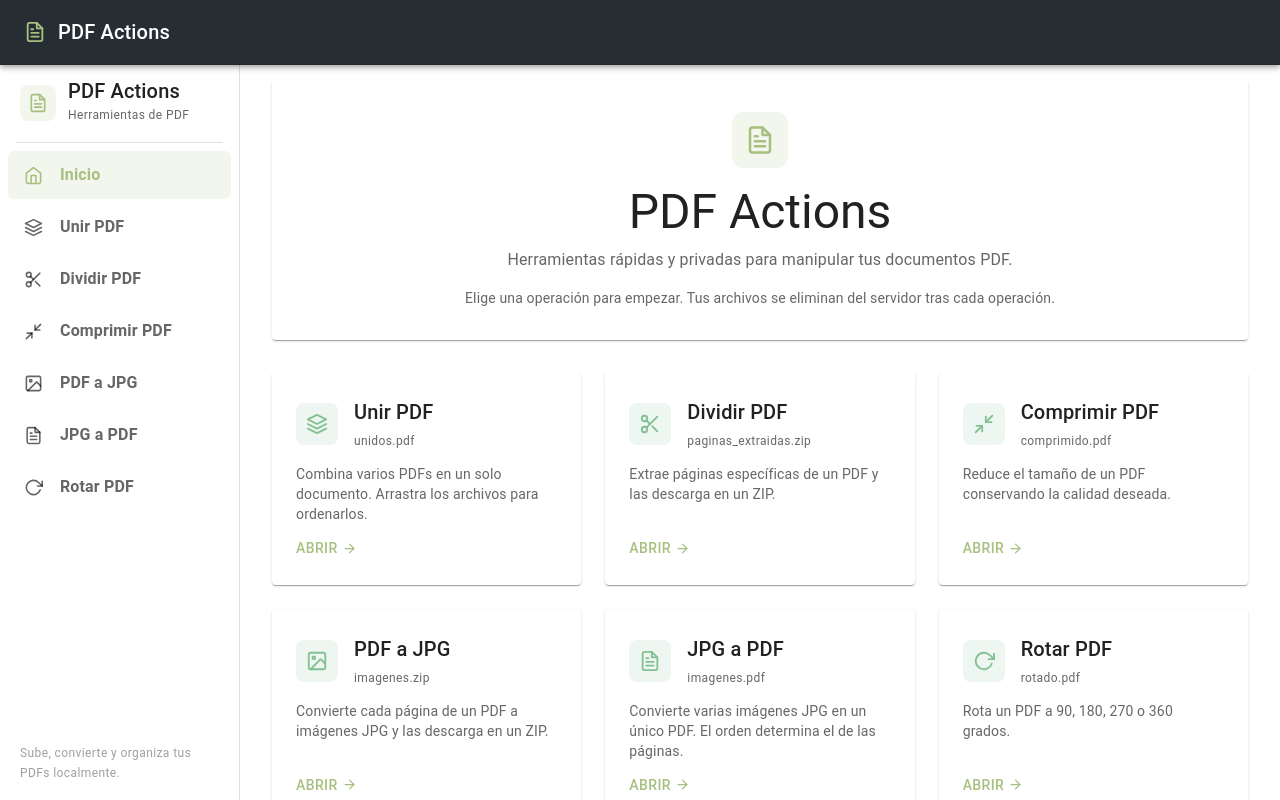
it: App / navegación › navega a cada página de operación desde el menú lateral
Click the link "Unir PDF" at point(74, 227), box [24,217,124,236]
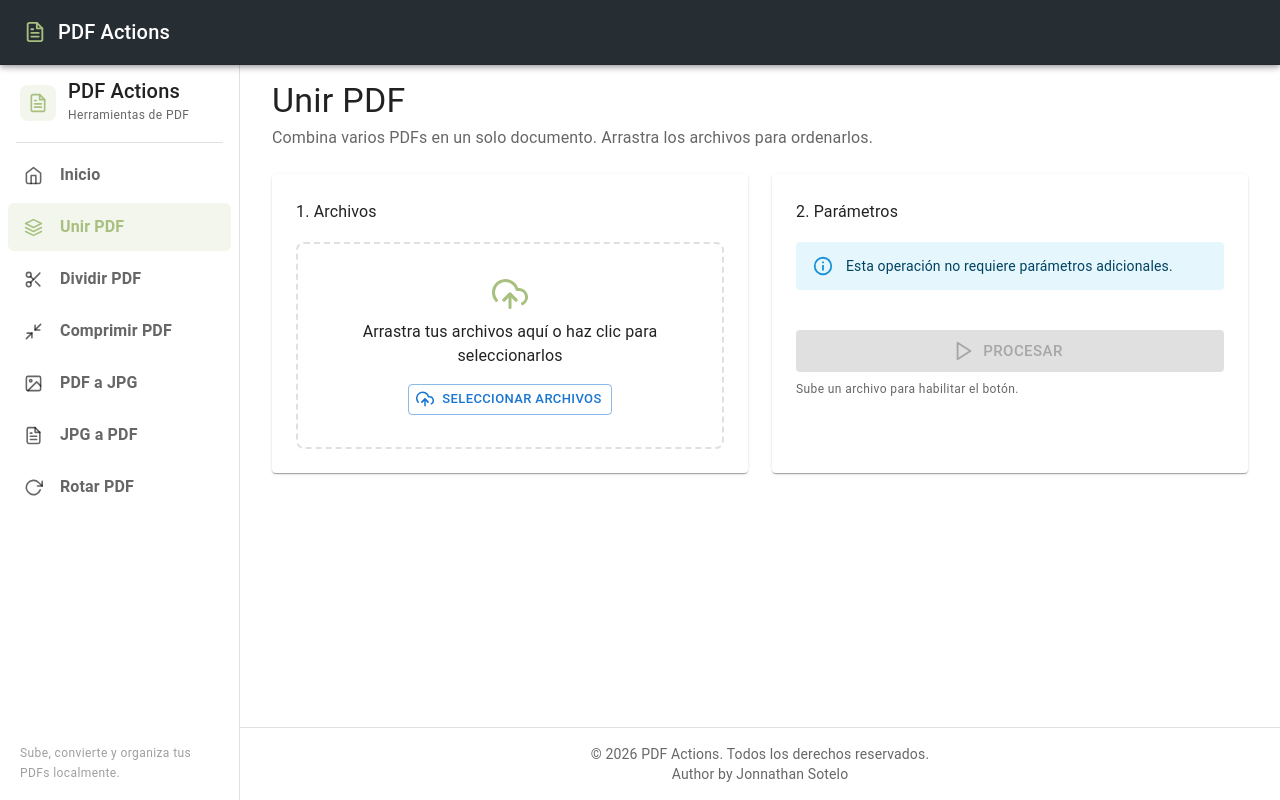
Expected: the text "Combina varios PDFs en un solo documento. Arrastra los archivos para ordenarlos." is shown, [272,128,873,147]
Result: the heading "Unir PDF" is shown at [272,80,406,120]
Click the link "Dividir PDF" at point(83, 279), box [24,269,141,288]
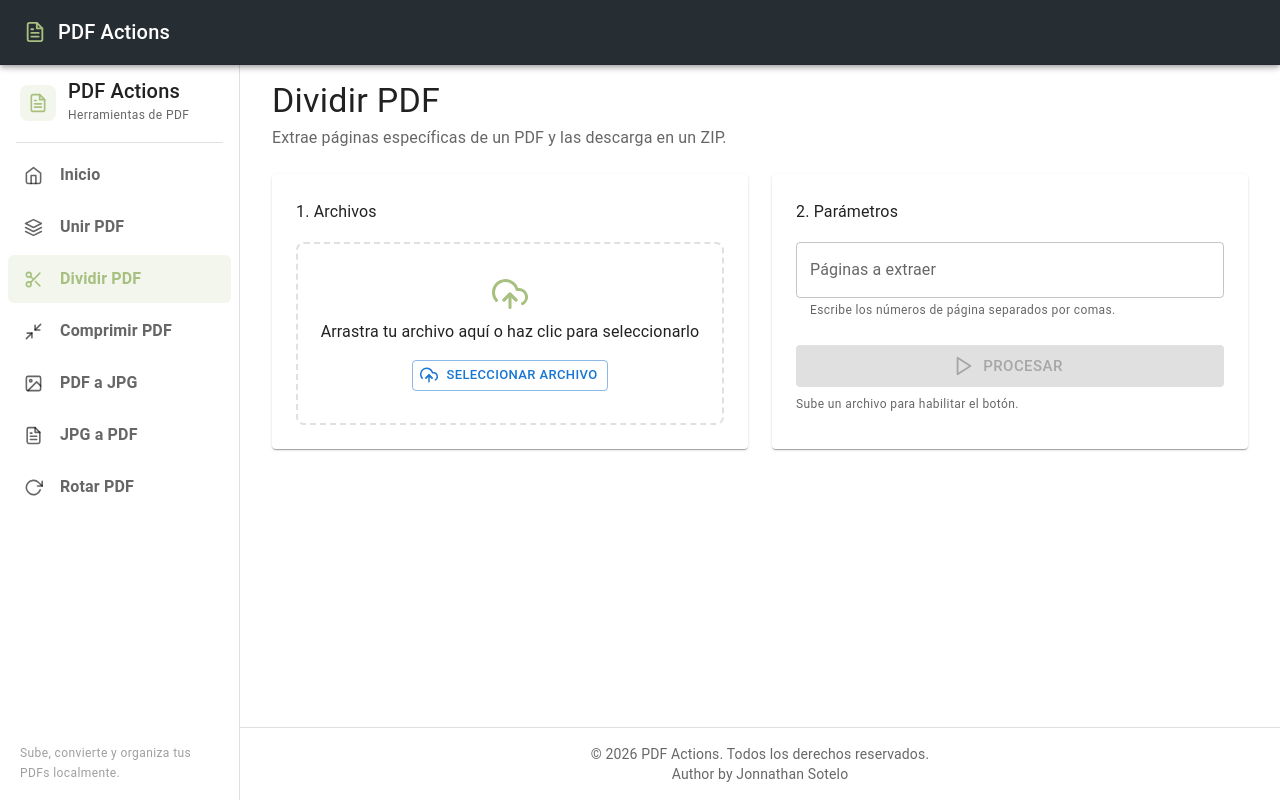
Result: the heading "Dividir PDF" is shown at [272,80,440,120]
Result: the text "Extrae páginas específicas de un PDF y las descarga en un ZIP." is shown at [272,128,727,147]
Click the link "Comprimir PDF" at point(98, 331), box [24,321,172,340]
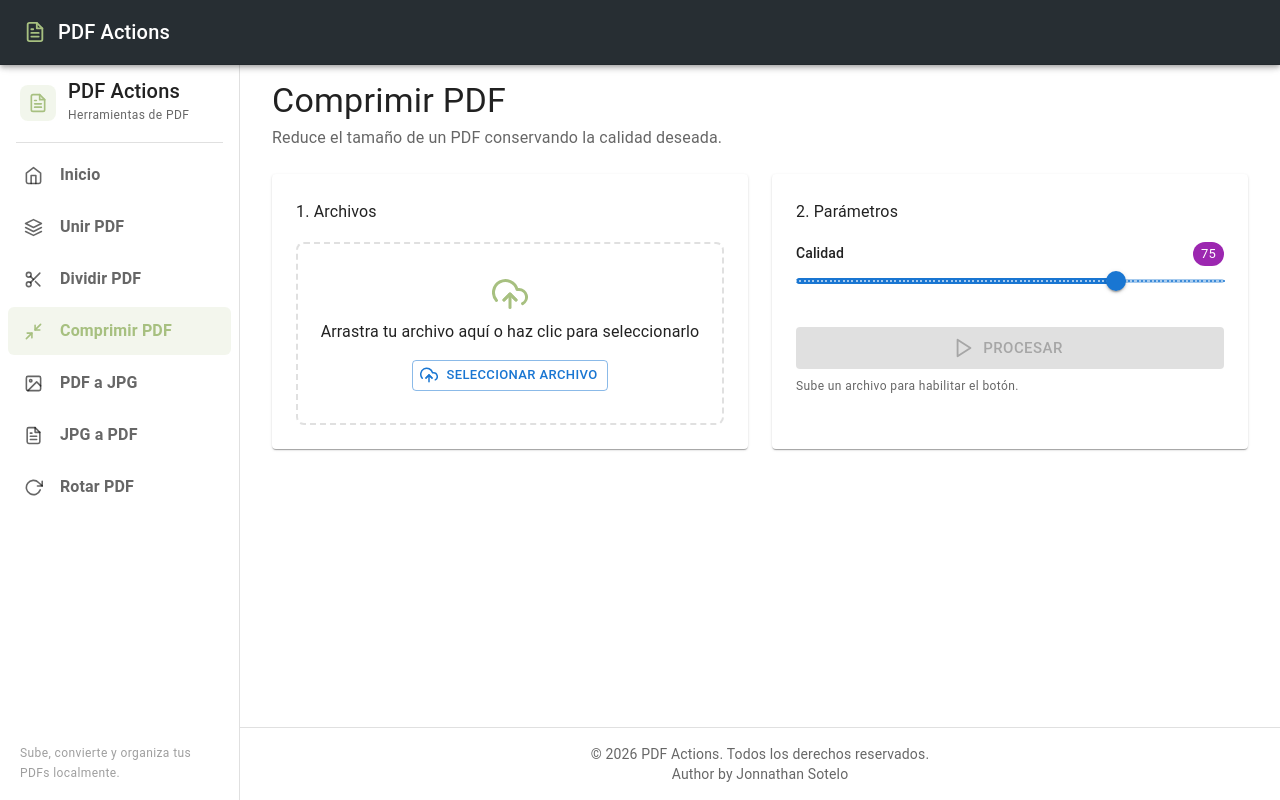
Result: the heading "Comprimir PDF" is shown at [272,80,506,120]
Result: the text "Reduce el tamaño de un PDF conservando la calidad deseada." is shown at [272,128,722,147]
Click the link "PDF a JPG" at point(81, 383), box [24,373,138,392]
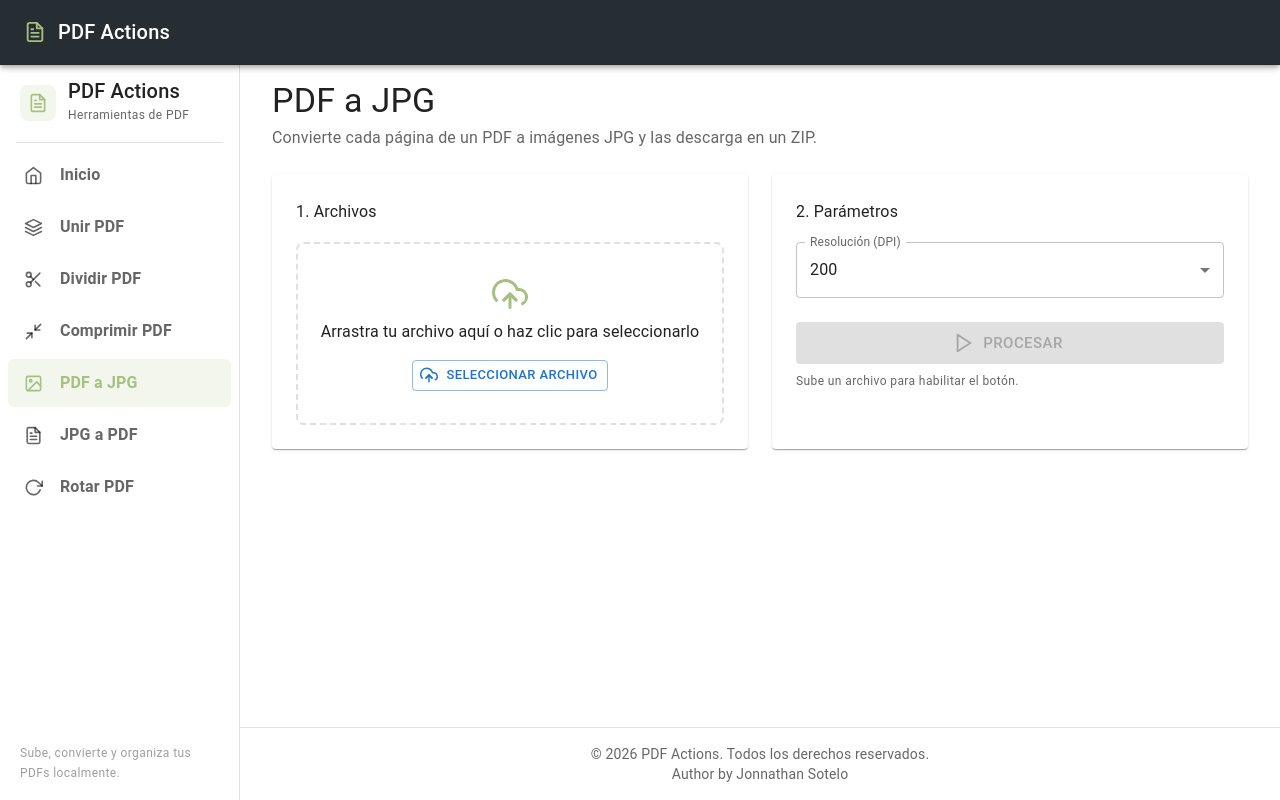
Result: the heading "PDF a JPG" is shown at [272,80,436,120]
Result: the text "Convierte cada página de un PDF a imágenes JPG y las descarga en un ZIP." is shown at [272,128,817,147]
Click the link "JPG a PDF" at point(81, 435), box [24,425,138,444]
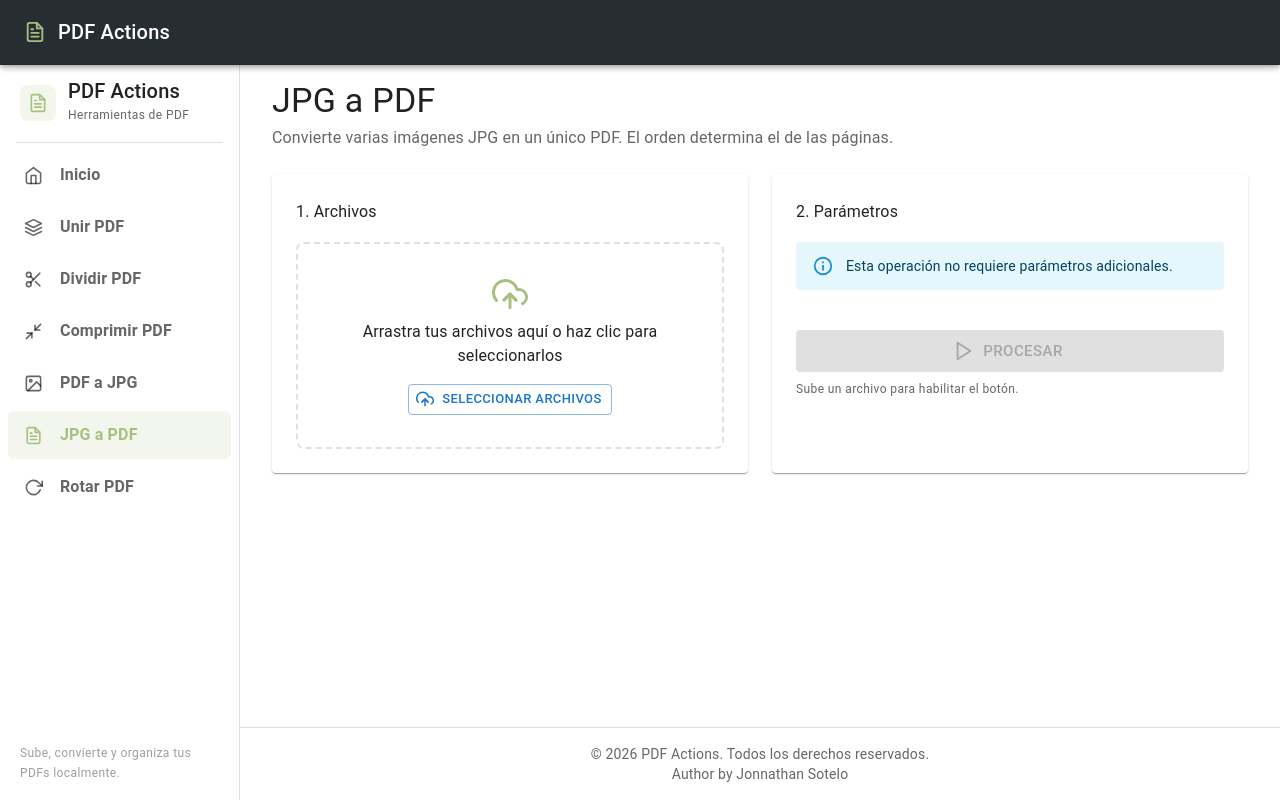
Result: the heading "JPG a PDF" is shown at [272,80,436,120]
Result: the text "Convierte varias imágenes JPG en un único PDF. El orden determina el de las páginas." is shown at [272,128,893,147]
Click the link "Rotar PDF" at point(79, 487), box [24,477,134,496]
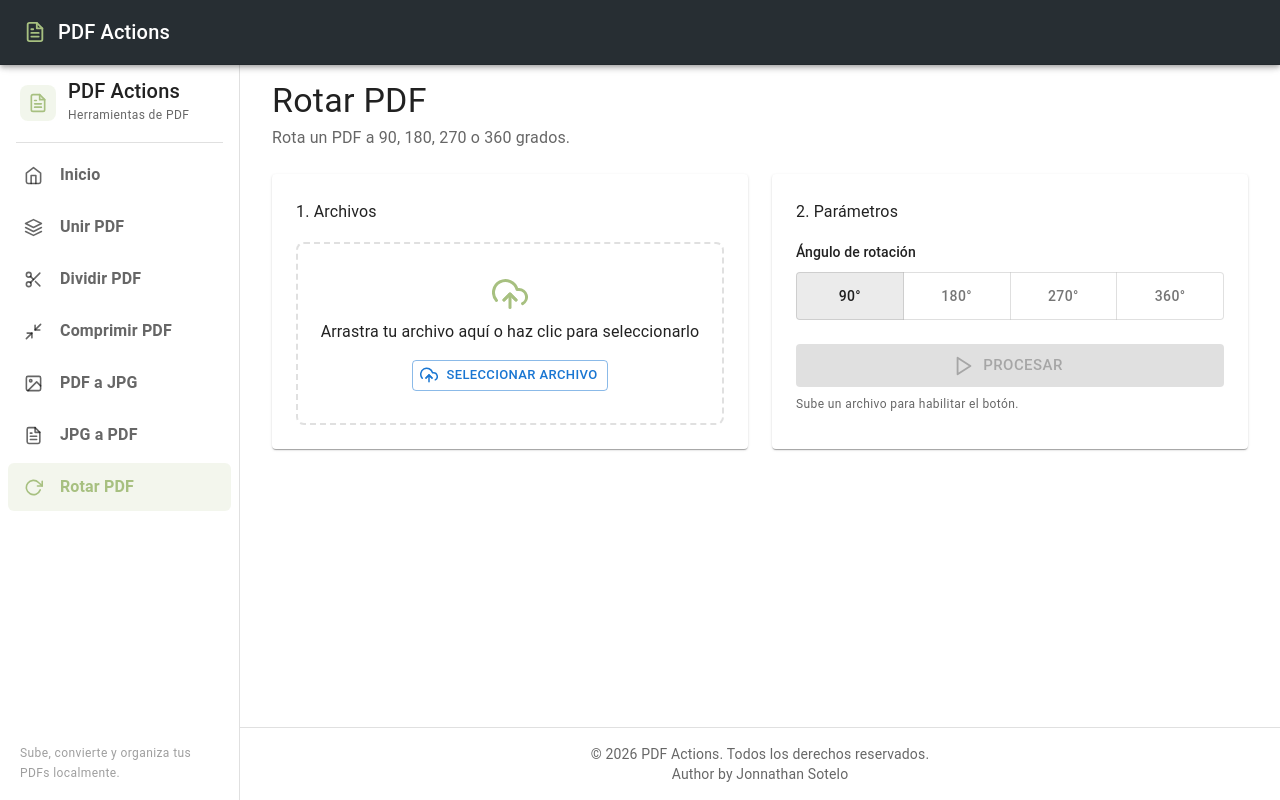
Result: the heading "Rotar PDF" is shown at [272,80,427,120]
Result: the text "Rota un PDF a 90, 180, 270 o 360 grados." is shown at [272,128,570,147]
